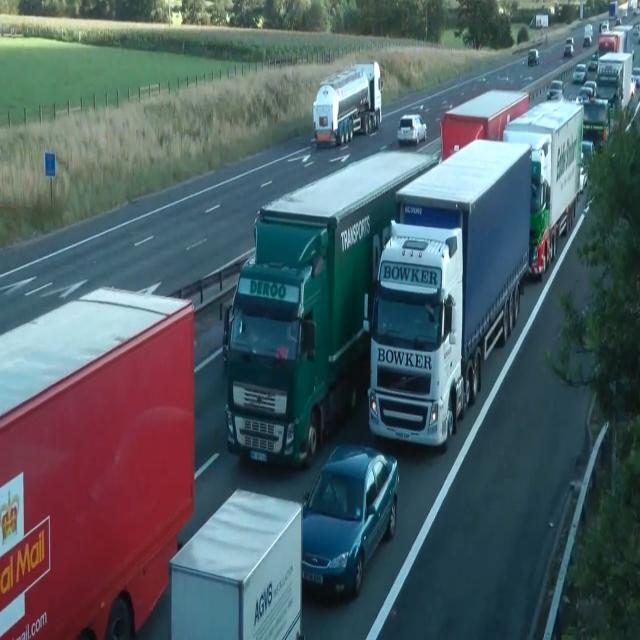bus: (300, 443, 400, 601), (397, 114, 427, 145), (579, 140, 595, 193), (546, 79, 564, 100), (598, 34, 617, 52), (572, 63, 588, 84), (581, 140, 595, 163), (576, 86, 593, 102), (579, 163, 587, 193), (583, 80, 597, 97), (583, 23, 593, 46), (528, 48, 540, 66), (564, 36, 574, 57), (588, 51, 598, 70), (631, 67, 639, 88), (632, 21, 640, 38), (599, 20, 609, 33), (630, 75, 636, 96), (554, 3, 562, 16), (614, 17, 622, 26)
minibus: (221, 147, 441, 469), (0, 285, 196, 639), (363, 137, 533, 449), (169, 487, 303, 639), (502, 97, 584, 280), (440, 88, 530, 162), (311, 61, 383, 148), (598, 21, 640, 88), (594, 51, 634, 117), (577, 96, 611, 153)
